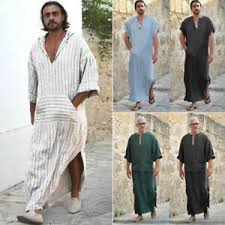middle_eastern_male: (38, 4, 78, 34), (137, 116, 146, 130)
